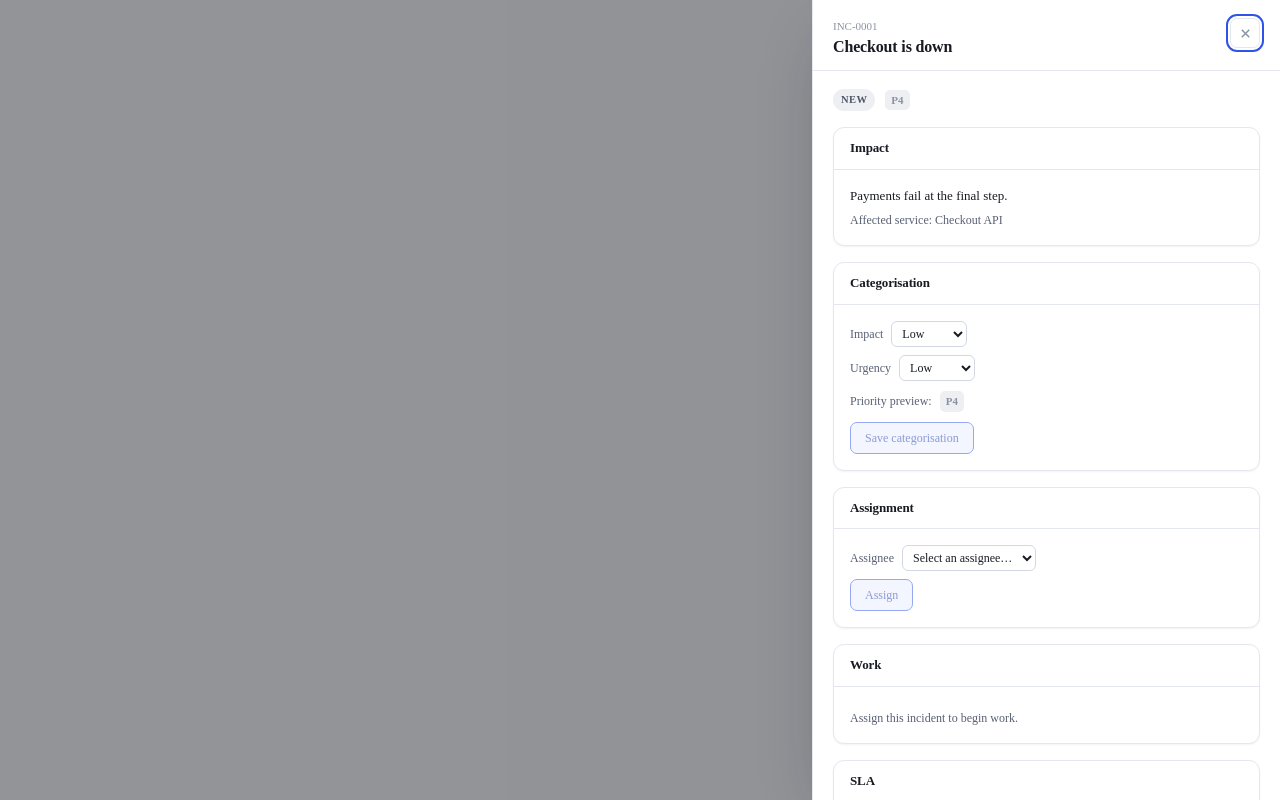
Scenario: changing impact/urgency updates the live priority preview
Expected: the element with test id "priority-preview" shows "P4", [946, 395, 958, 407]
Select "High" in the dropdown labelled "Impact" at (929, 334), box [891, 321, 967, 347]
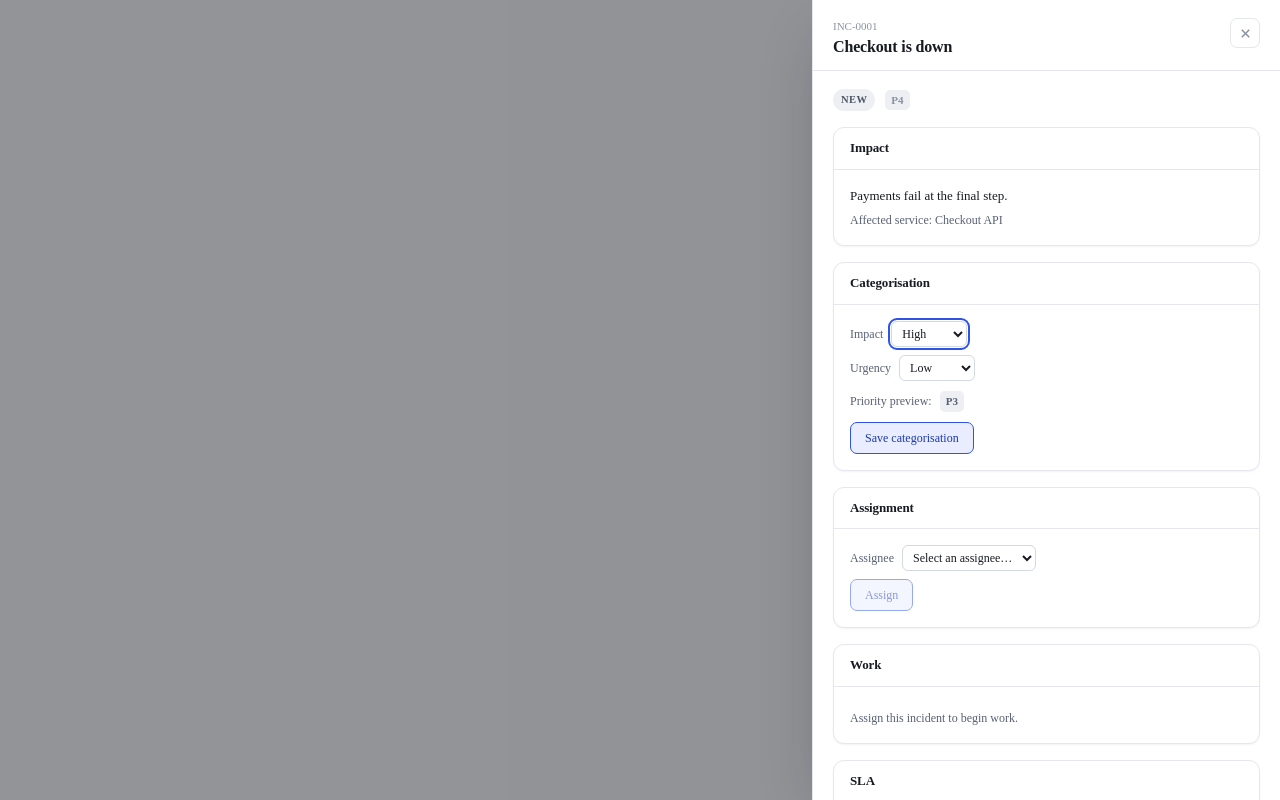
Select "High" in the dropdown labelled "Urgency" at (937, 368), box [899, 355, 975, 381]
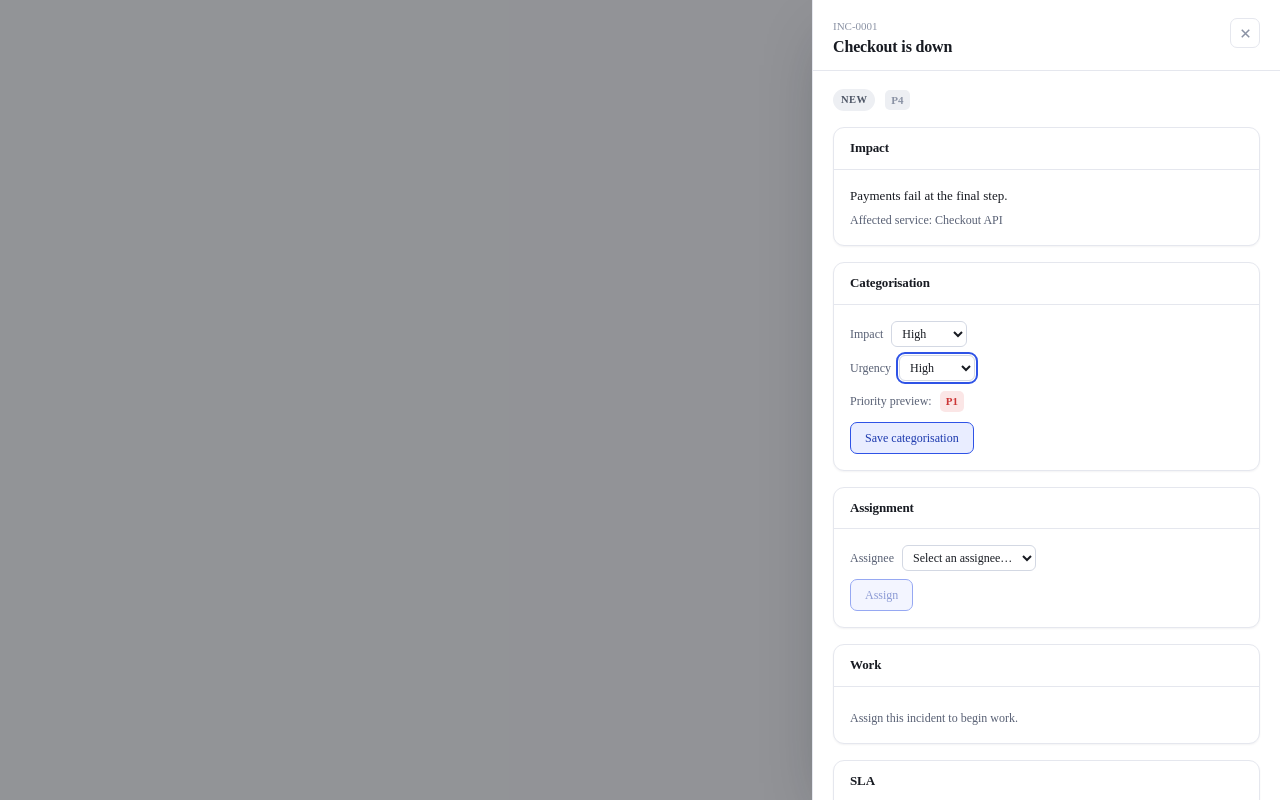
Result: the element with test id "priority-preview" shows "P1" at [946, 395, 958, 407]
